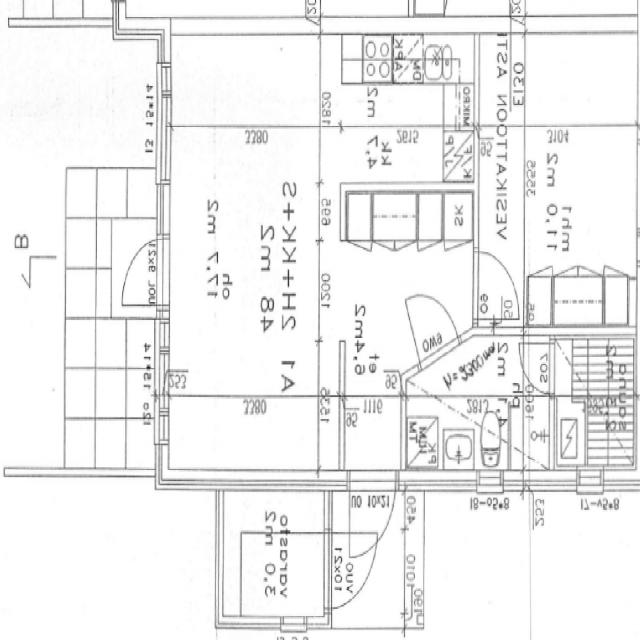door: (404, 276, 460, 372), (350, 470, 396, 566), (324, 534, 378, 609), (116, 239, 170, 305), (474, 252, 520, 319), (519, 344, 555, 394)
